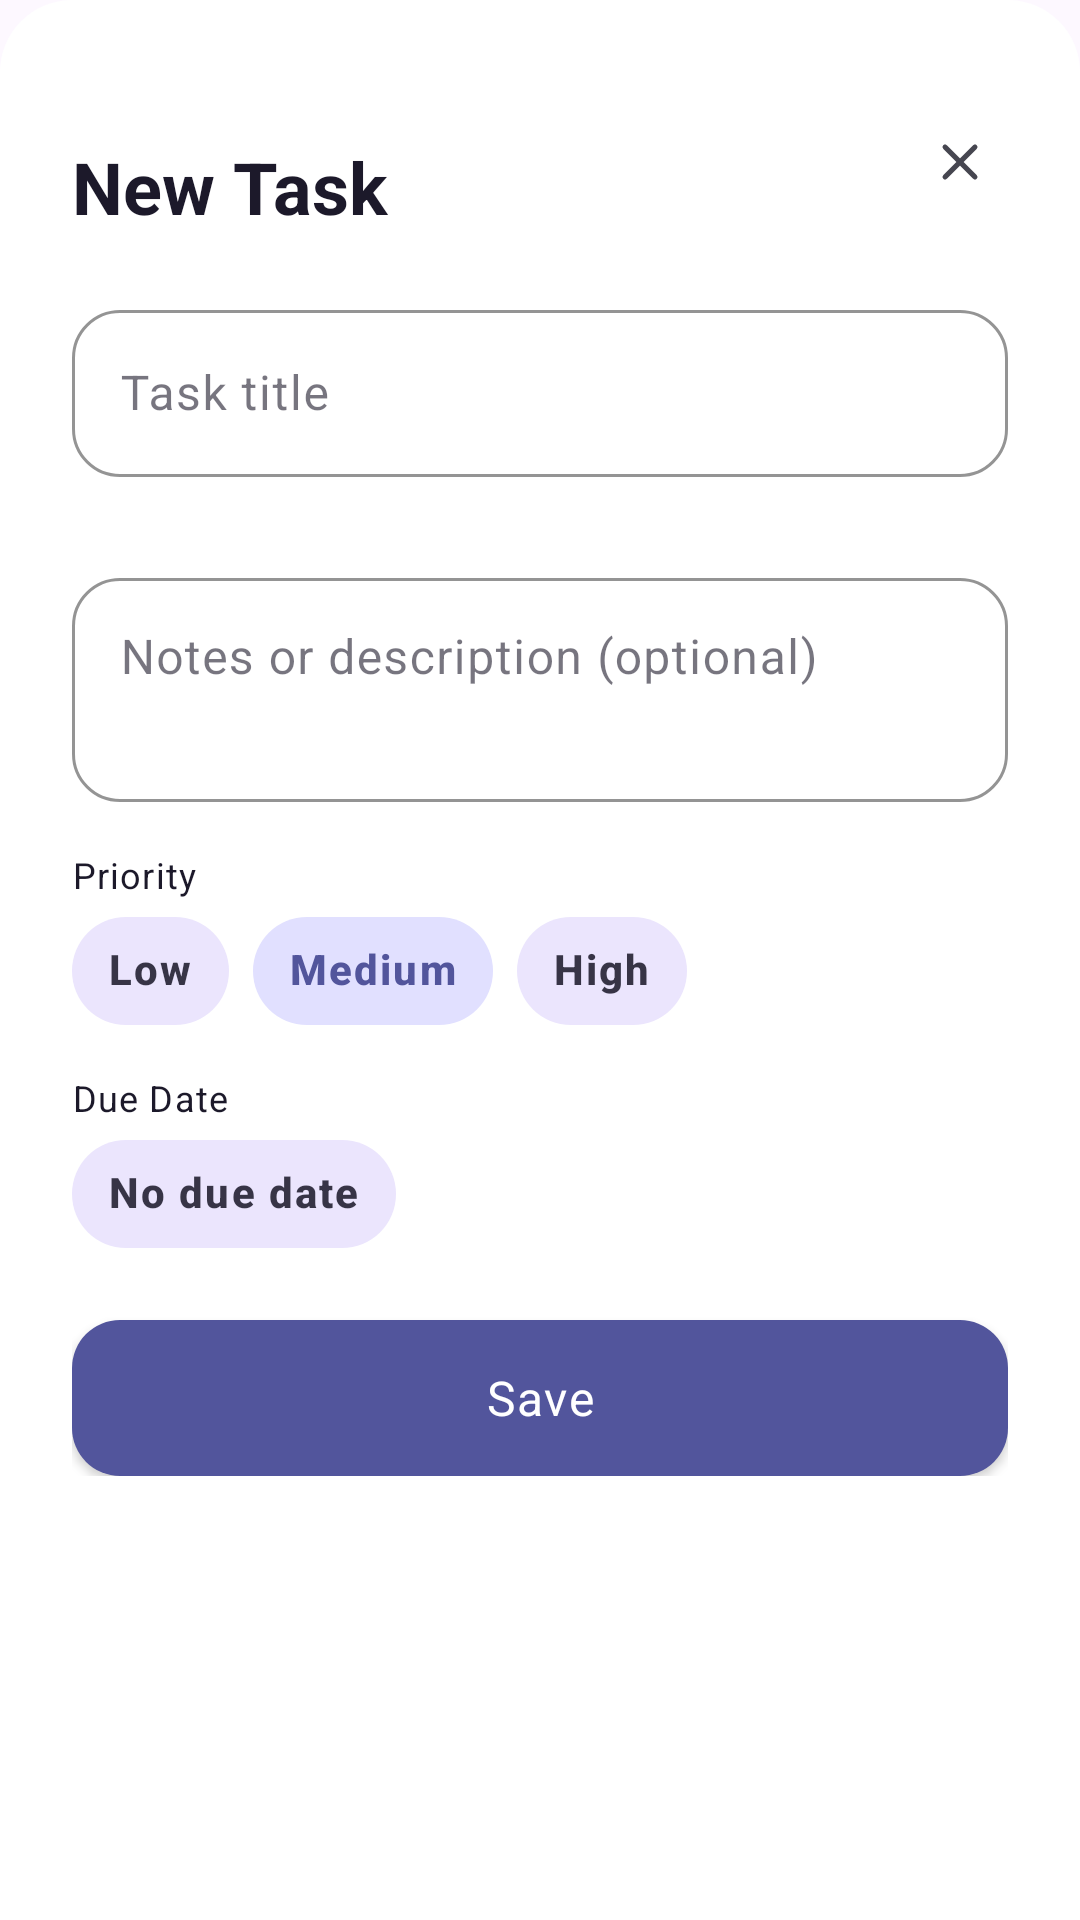

Icon click points for this 1080×1920 phone screenshot, format (x,y):
Close: (960,162)
